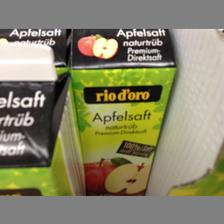Saft: (71, 28, 178, 194)
